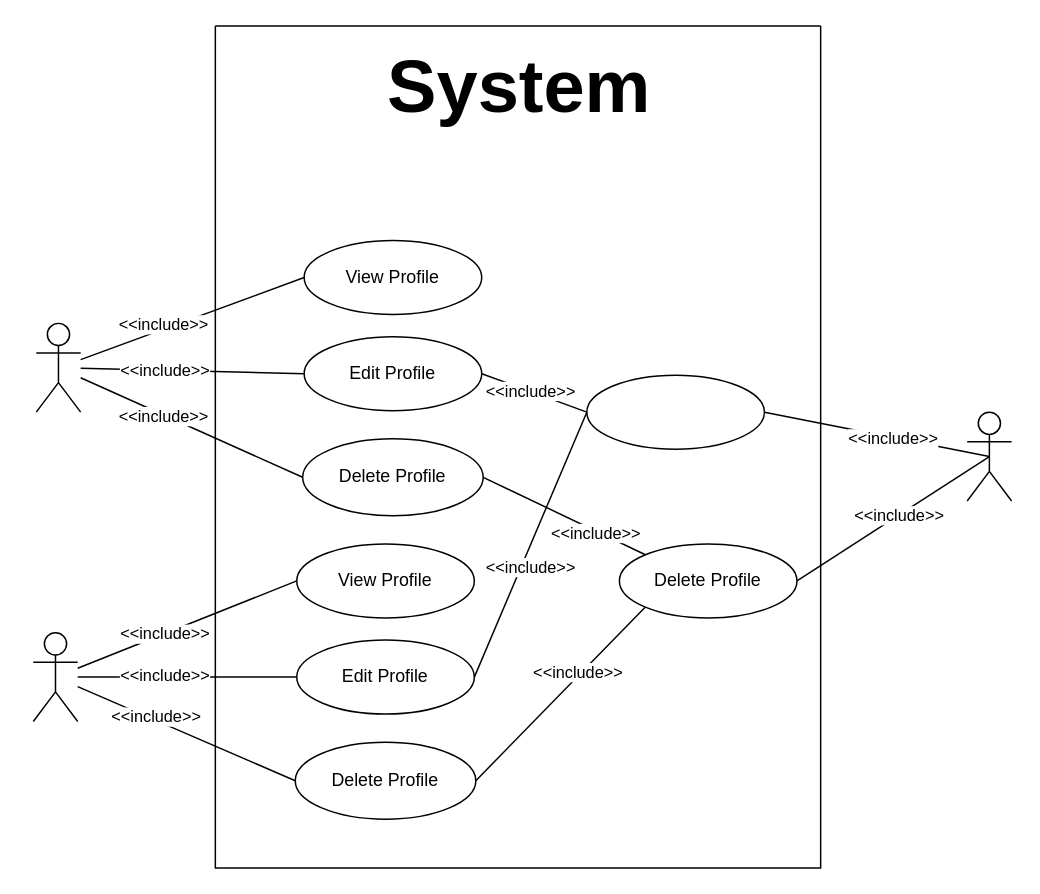
The diagram is 1040 pixels wide and 894 high, and some of its shapes have lost their labels. Here are the shapes that lost their labels. From the top down, the centre of each, then its label:
point (58, 367): Teacher
point (674, 411): Update Profile
point (989, 456): Admin
point (55, 676): Student
